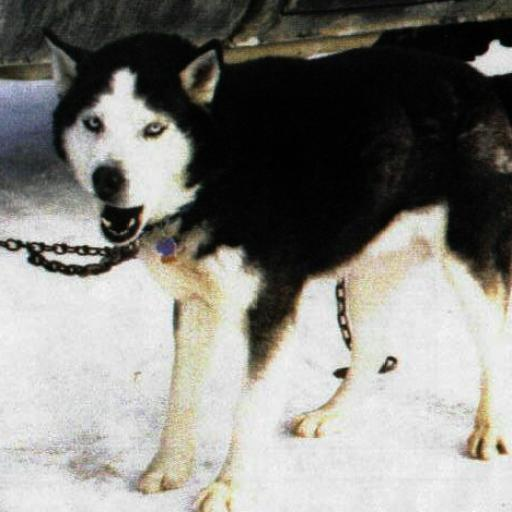dog_face: (49, 30, 217, 248)
